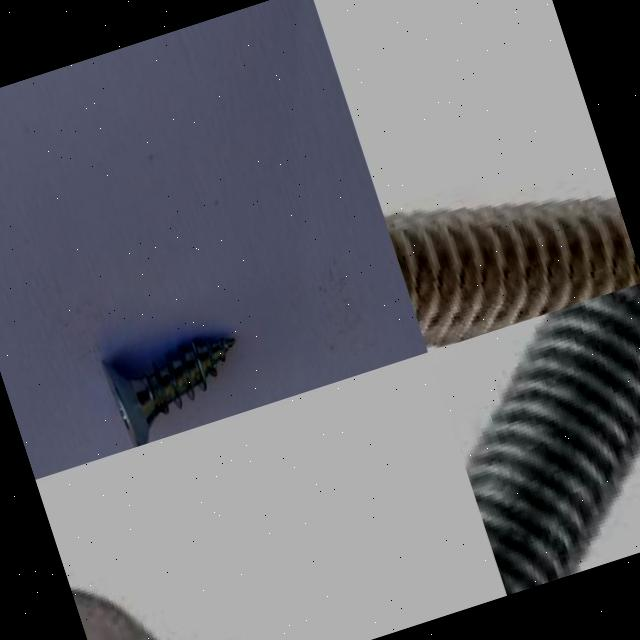Screw: (463, 283, 640, 596), (383, 193, 640, 346), (102, 339, 236, 447)
